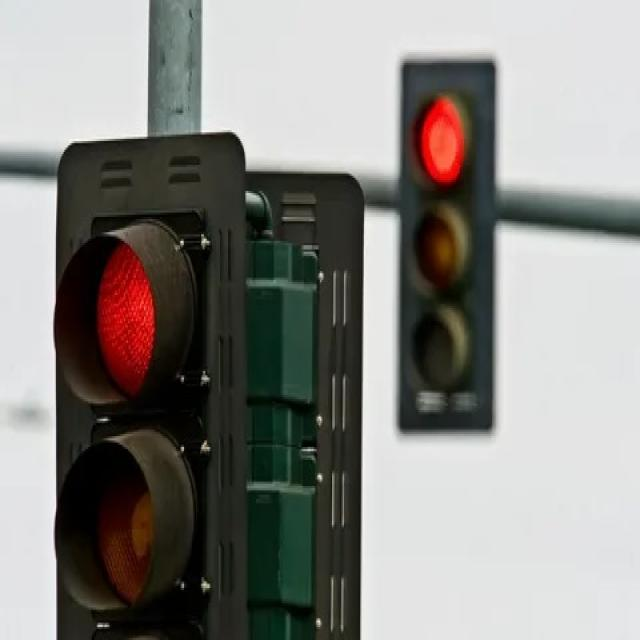kirmizi: (410, 89, 473, 388)
